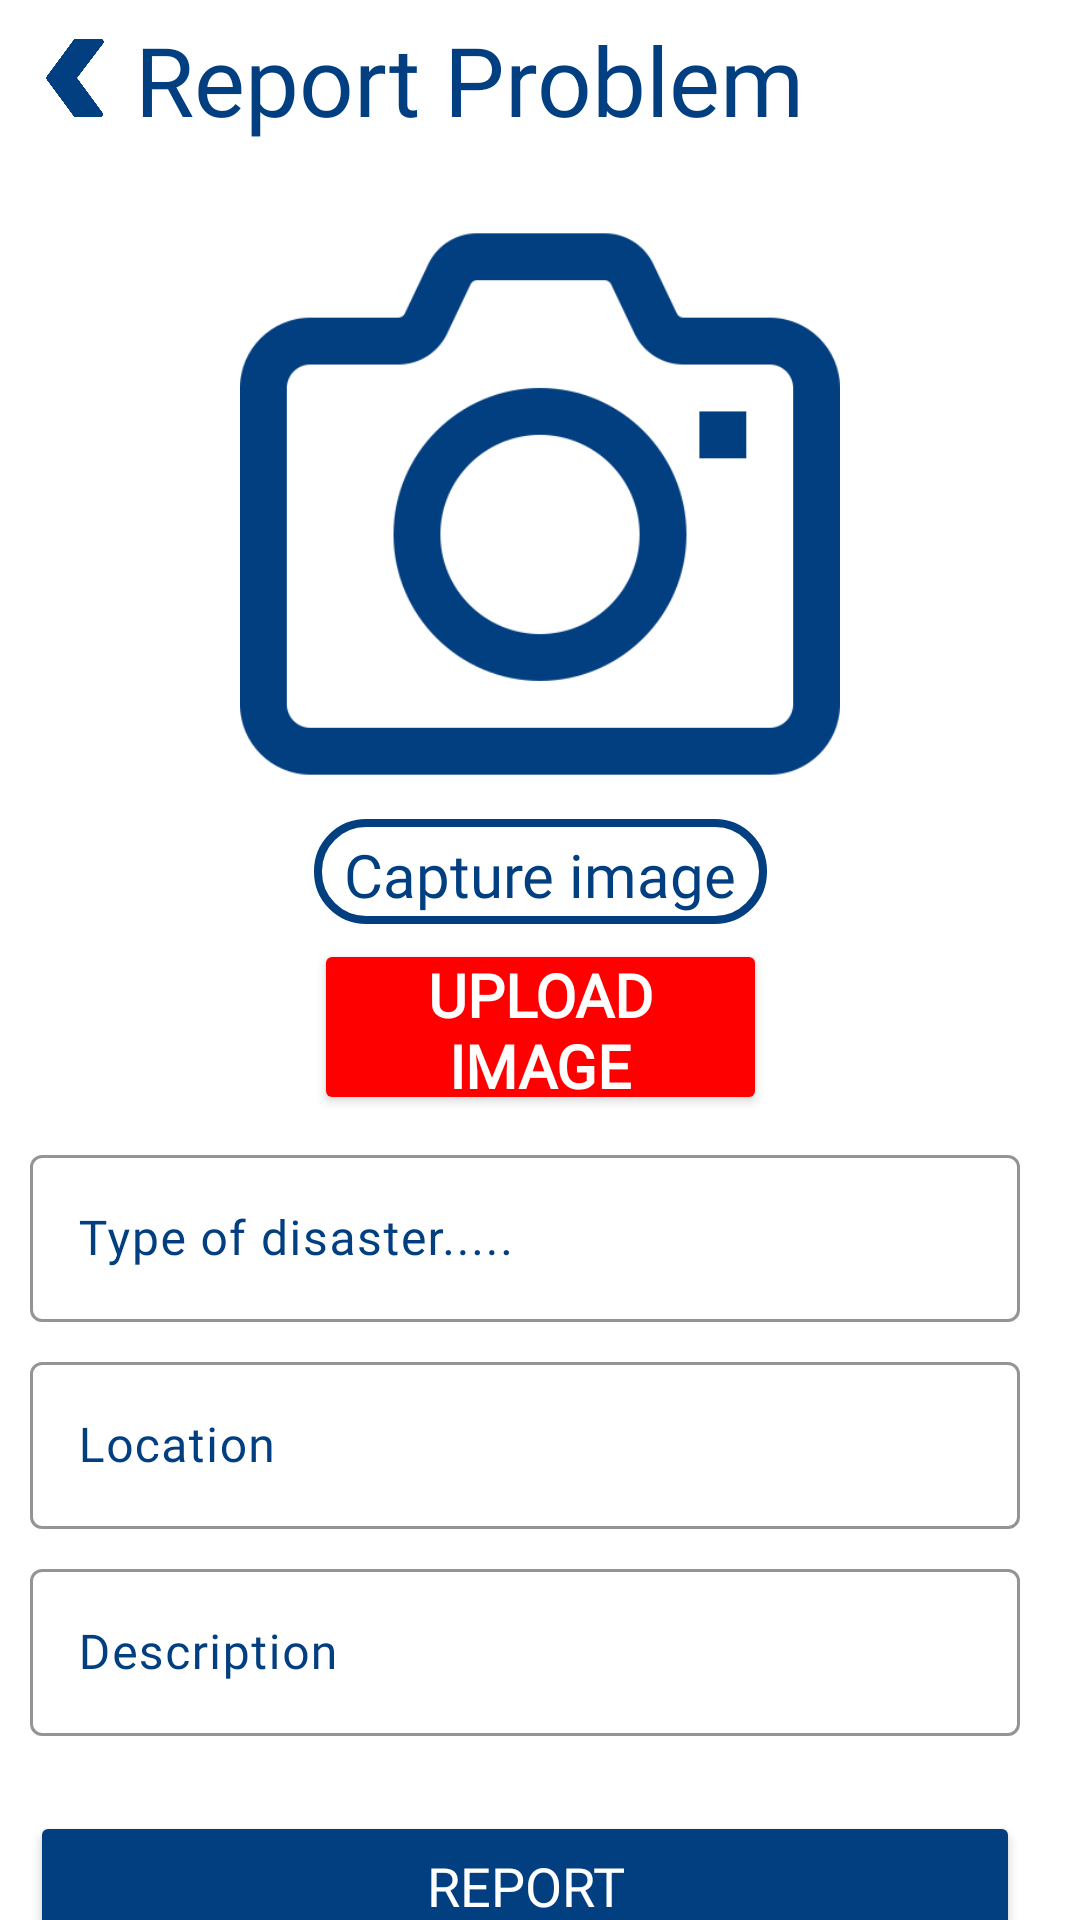

Icons on this 1080*1920 Android screen, each with its box as (x1, y1, x2, y2):
back: (46, 39, 104, 117)
